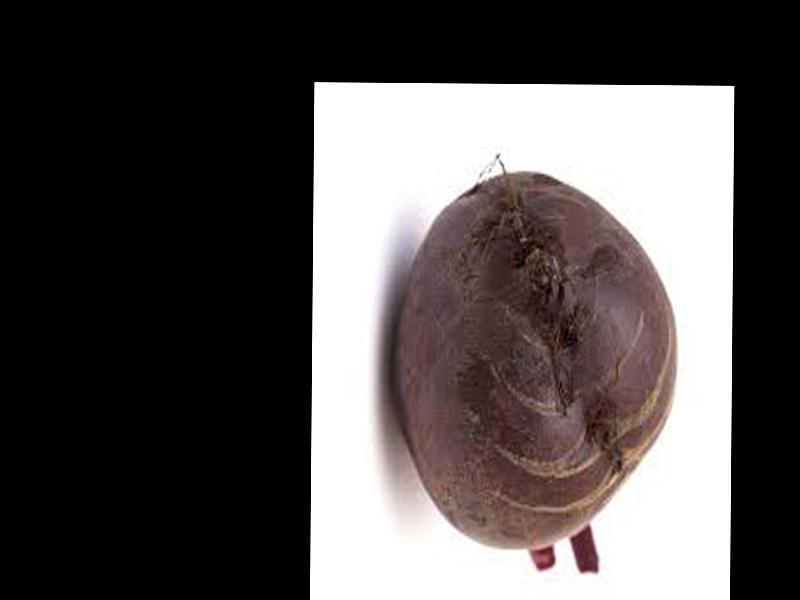Beet: (386, 169, 681, 570)
